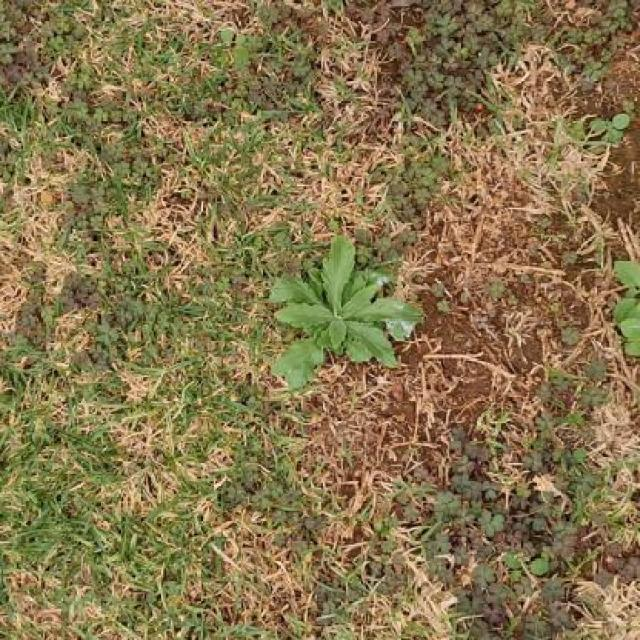weed: (271, 237, 422, 389)
